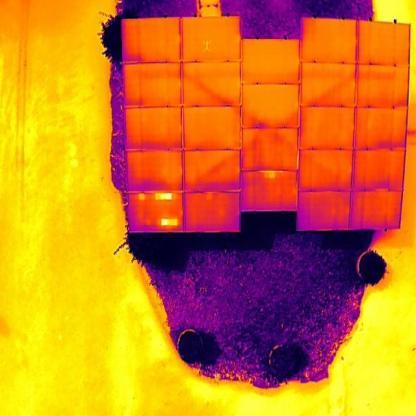anomaly: (158, 215, 180, 230), (151, 191, 176, 202), (136, 192, 147, 204)
